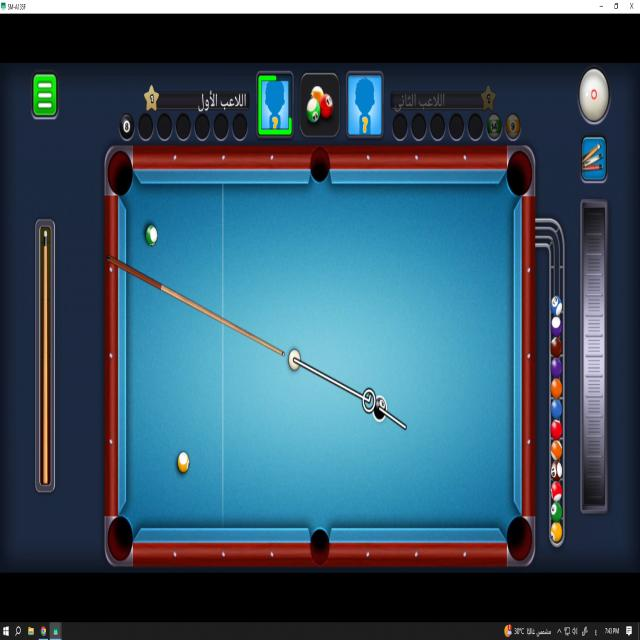object_ball: (372, 396, 388, 421), (146, 225, 157, 245), (178, 452, 189, 472)
white_cue_ball: (289, 350, 300, 370)
